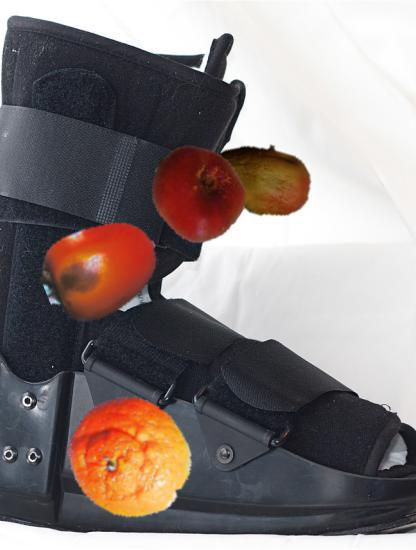Kaki: (42, 211, 161, 330)
Mandarine: (68, 394, 194, 520)
Nectarine: (149, 146, 245, 242)
Papaya: (205, 124, 314, 233)
